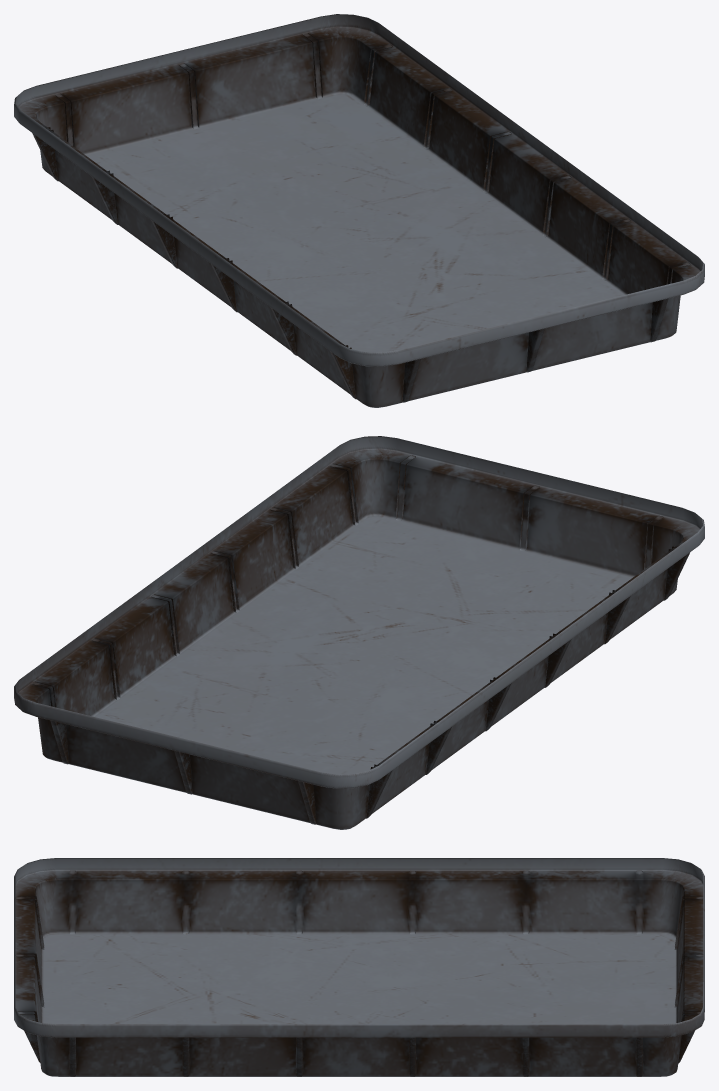
Rendered from SM_RoofVentDoor.fbx.
3 renders of one model, top to bottom at view 1: azimuth 30°, elevation 25°; view 2: azimuth 150°, elevation 25°; view 3: azimuth 270°, elevation 25°, orthographic. The views are drawn at different scales.
Parts seen in each view (by area): view 1: SM_RoofVentDoor_LOD0; view 2: SM_RoofVentDoor_LOD0; view 3: SM_RoofVentDoor_LOD0.
Boxes of the visible parts, x1,y1,x2,y2 form: SM_RoofVentDoor_LOD0: [14, 14, 704, 407]; SM_RoofVentDoor_LOD0: [14, 436, 704, 829]; SM_RoofVentDoor_LOD0: [14, 858, 704, 1076].
Bounding box in the file's own units: 134 × 234 × 24.03.
1 material, 1 textured.
